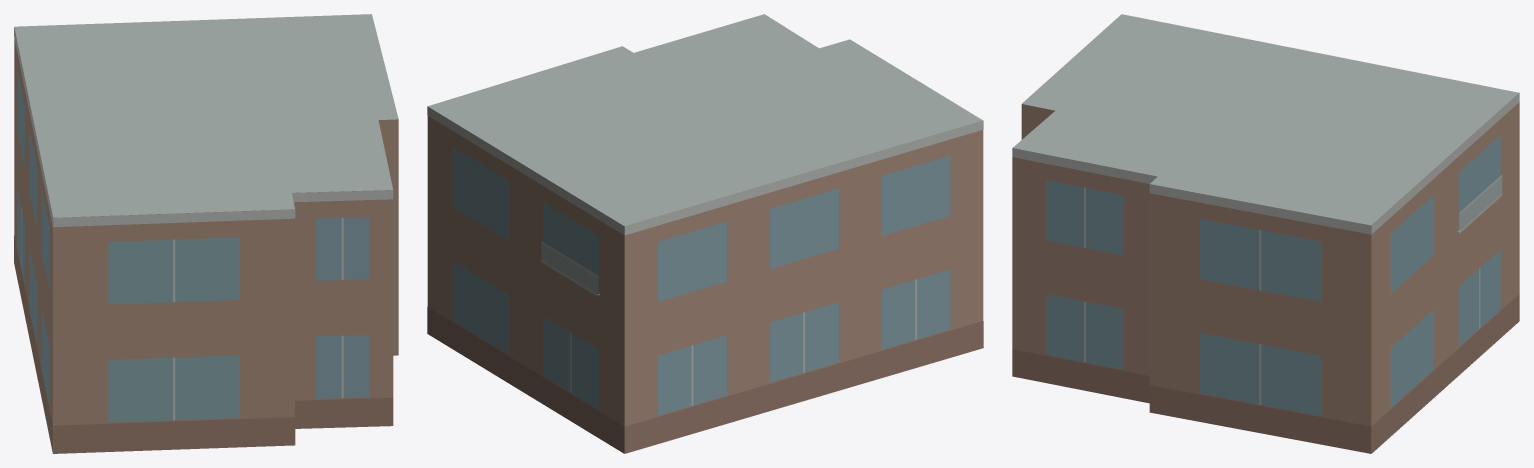
File: survey-upis-32827010.glb
3 views of the same model, side by side, from view 1: azimuth 30°, elevation 25°; view 2: azimuth 150°, elevation 25°; view 3: azimuth 270°, elevation 25° (orthographic). The views are drawn at different scales.
Parts seen in each view (by area): view 1: survey-upis-32827010.tmp; view 2: survey-upis-32827010.tmp; view 3: survey-upis-32827010.tmp.
Boxes of the visible parts, <box> form: survey-upis-32827010.tmp: <box>14,14,398,453</box>; survey-upis-32827010.tmp: <box>427,14,983,453</box>; survey-upis-32827010.tmp: <box>1012,14,1519,453</box>.
Bounding box in the file's own units: 12.12 × 6.1 × 12.29.
